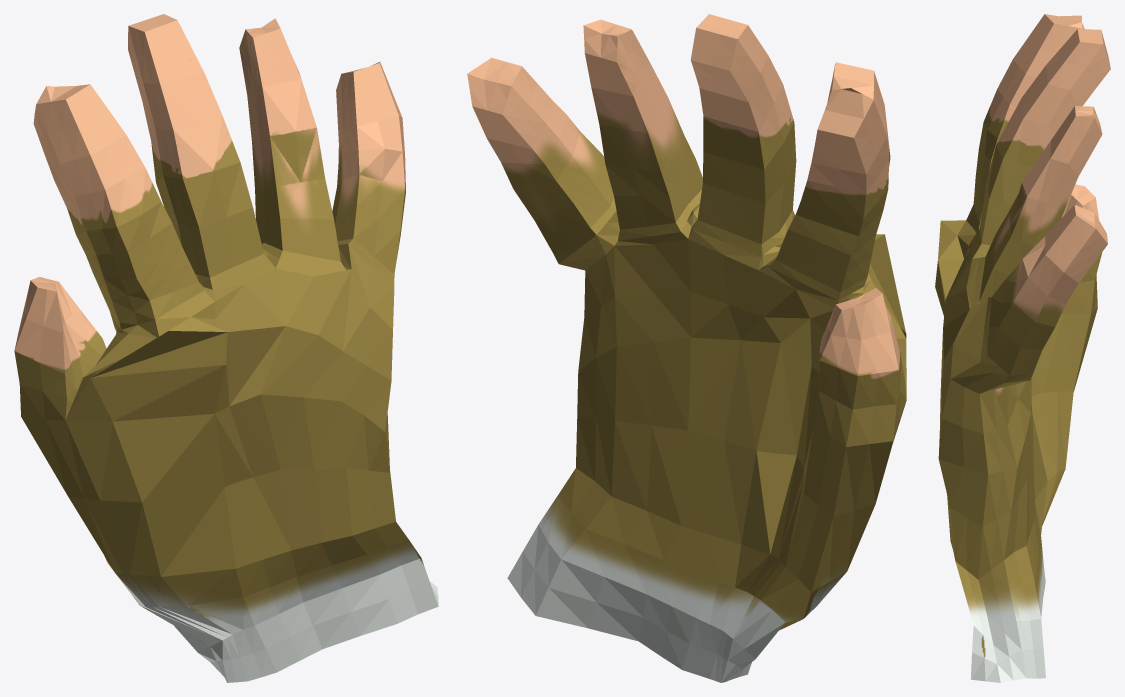
File: grip0014.obj
3 views of the same model, side by side, from view 1: azimuth 30°, elevation 25°; view 2: azimuth 150°, elevation 25°; view 3: azimuth 270°, elevation 25° (orthographic). The views are drawn at different scales.
Parts seen in each view (by area): view 1: Hand; view 2: Hand; view 3: Hand.
Boxes of the visible parts, x1,y1,x2,y2 form: Hand: [14, 14, 438, 682]; Hand: [467, 14, 906, 682]; Hand: [935, 14, 1110, 682].
Size of the model in its own units: 3.03 by 4.78 by 1.3.
